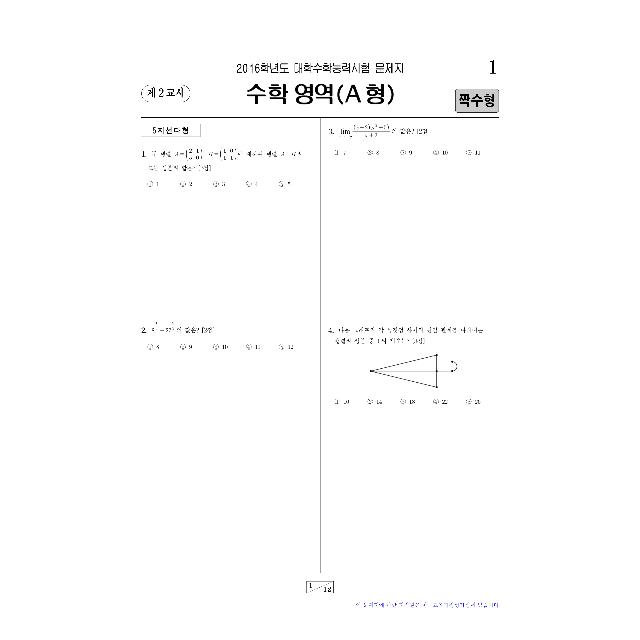multiple: (324, 319, 504, 415), (132, 144, 314, 198), (322, 119, 498, 167), (134, 314, 314, 360)
